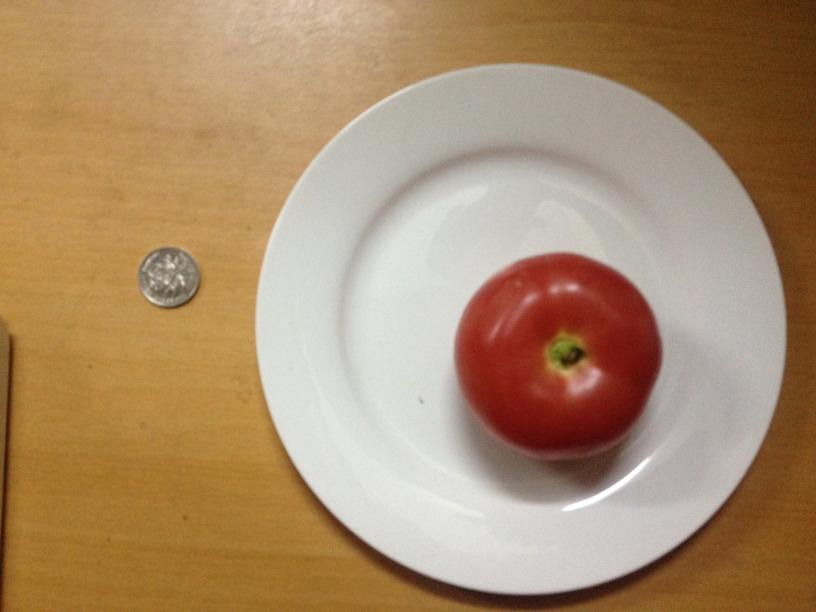coin: (139, 246, 199, 305)
tomato: (443, 250, 663, 460)
